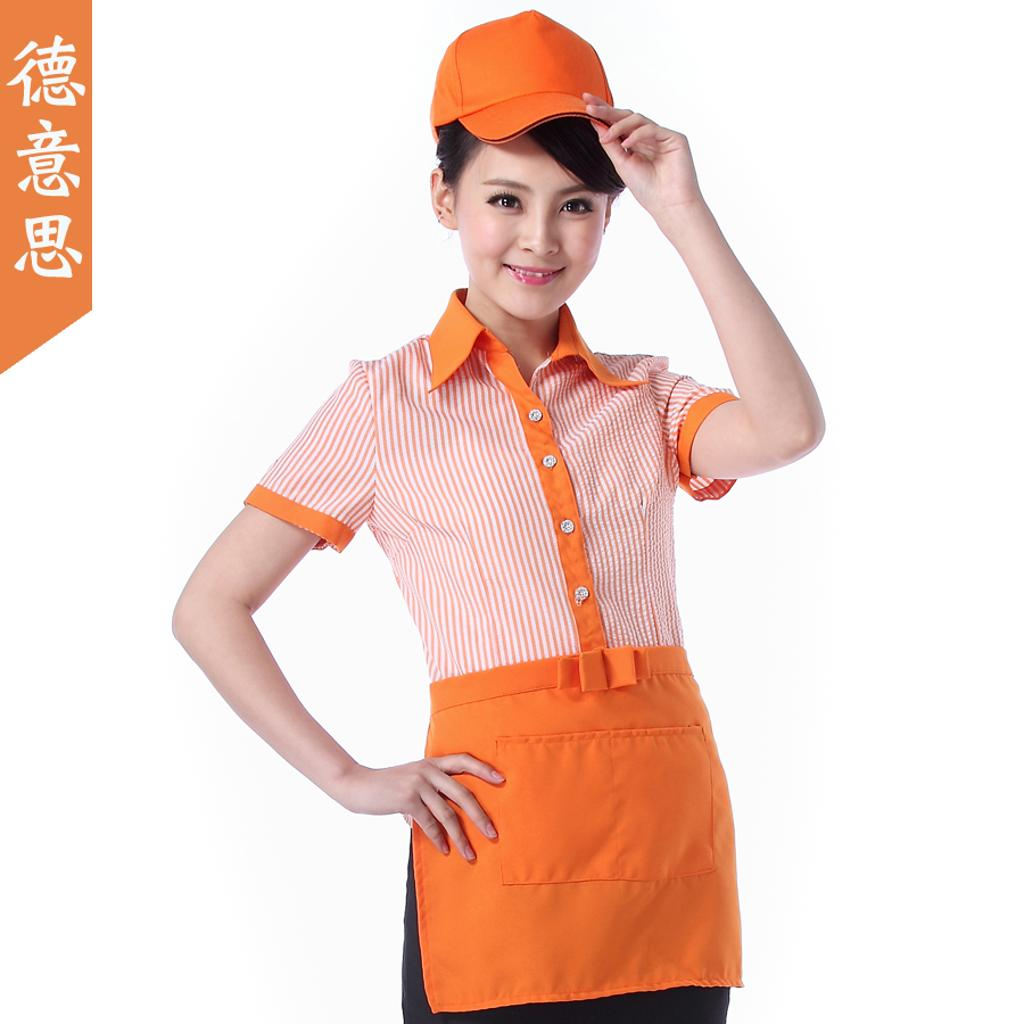face: (458, 122, 608, 320)
